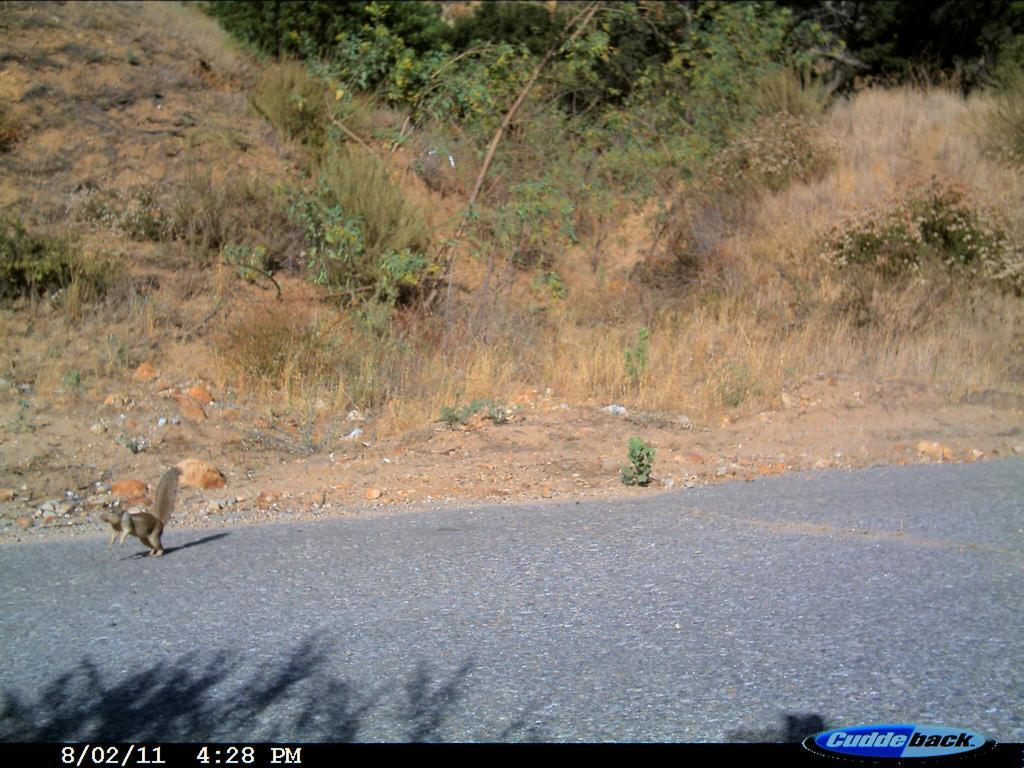squirrel: (81, 462, 192, 576)
